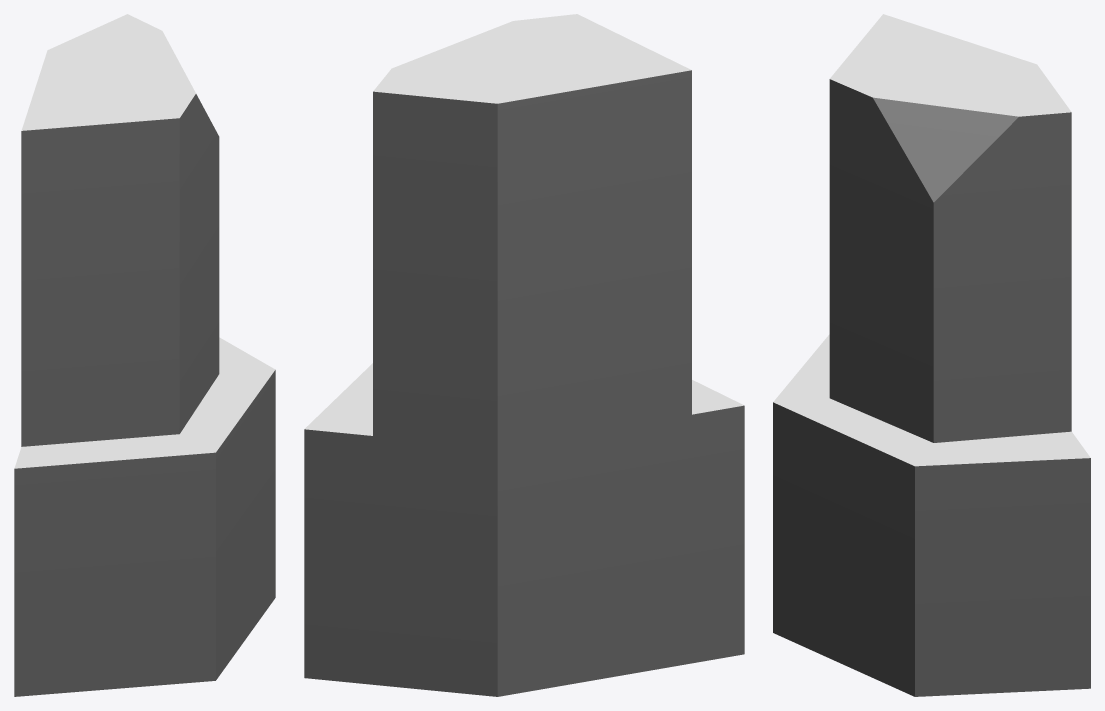
Rendered from stone winter small 5.fbx.
3 views of the same model, side by side, from view 1: azimuth 30°, elevation 25°; view 2: azimuth 150°, elevation 25°; view 3: azimuth 270°, elevation 25° (orthographic). The views are drawn at different scales.
Visible parts, largest first — view 1: stone winter small 5; view 2: stone winter small 5; view 3: stone winter small 5.
Part boxes in pixels (<box>): stone winter small 5: <box>14,14,275,696</box>; stone winter small 5: <box>304,14,744,696</box>; stone winter small 5: <box>773,14,1090,696</box>.
Bounding box in the file's own units: 45.81 × 80.06 × 41.93.
